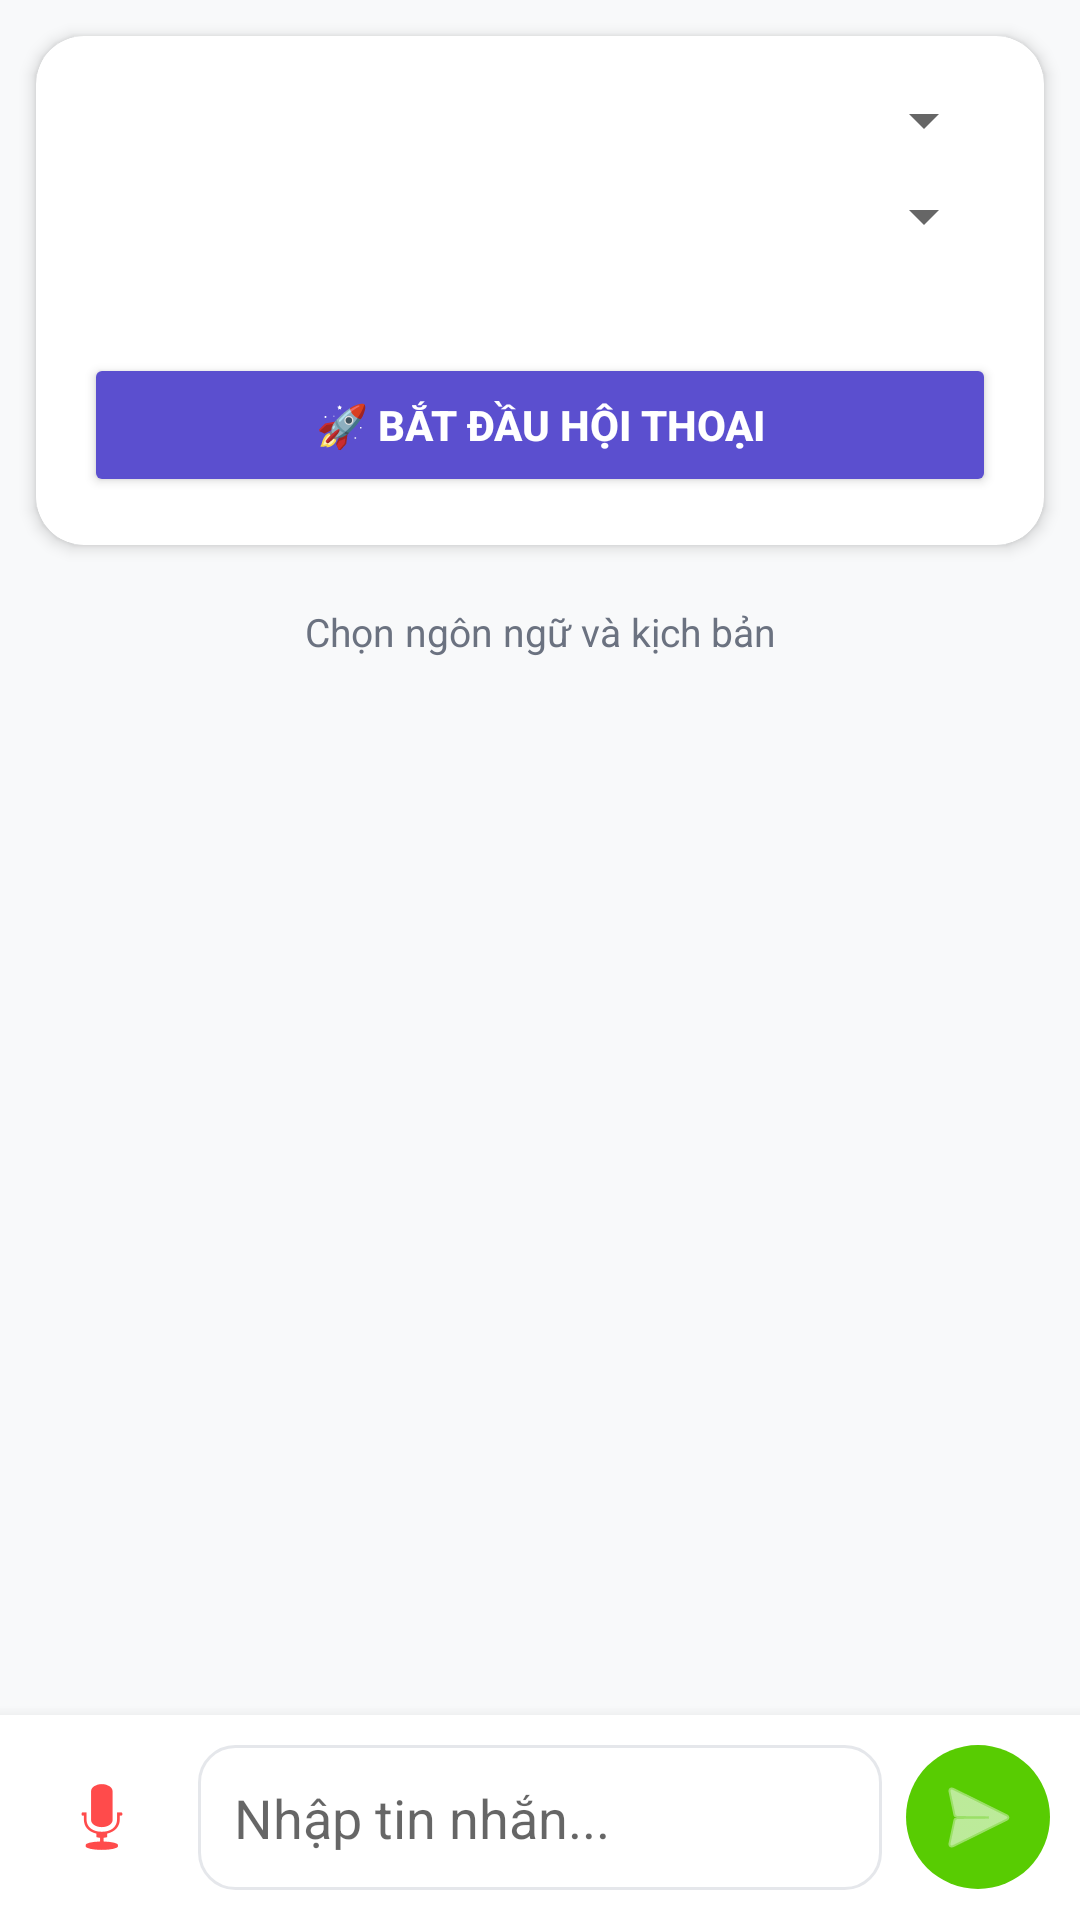

Screen size 1080x1920. Icon name, then its center in pixels as (x=x, y=y):
send: (x=978, y=1817)
speak now: (x=102, y=1817)
